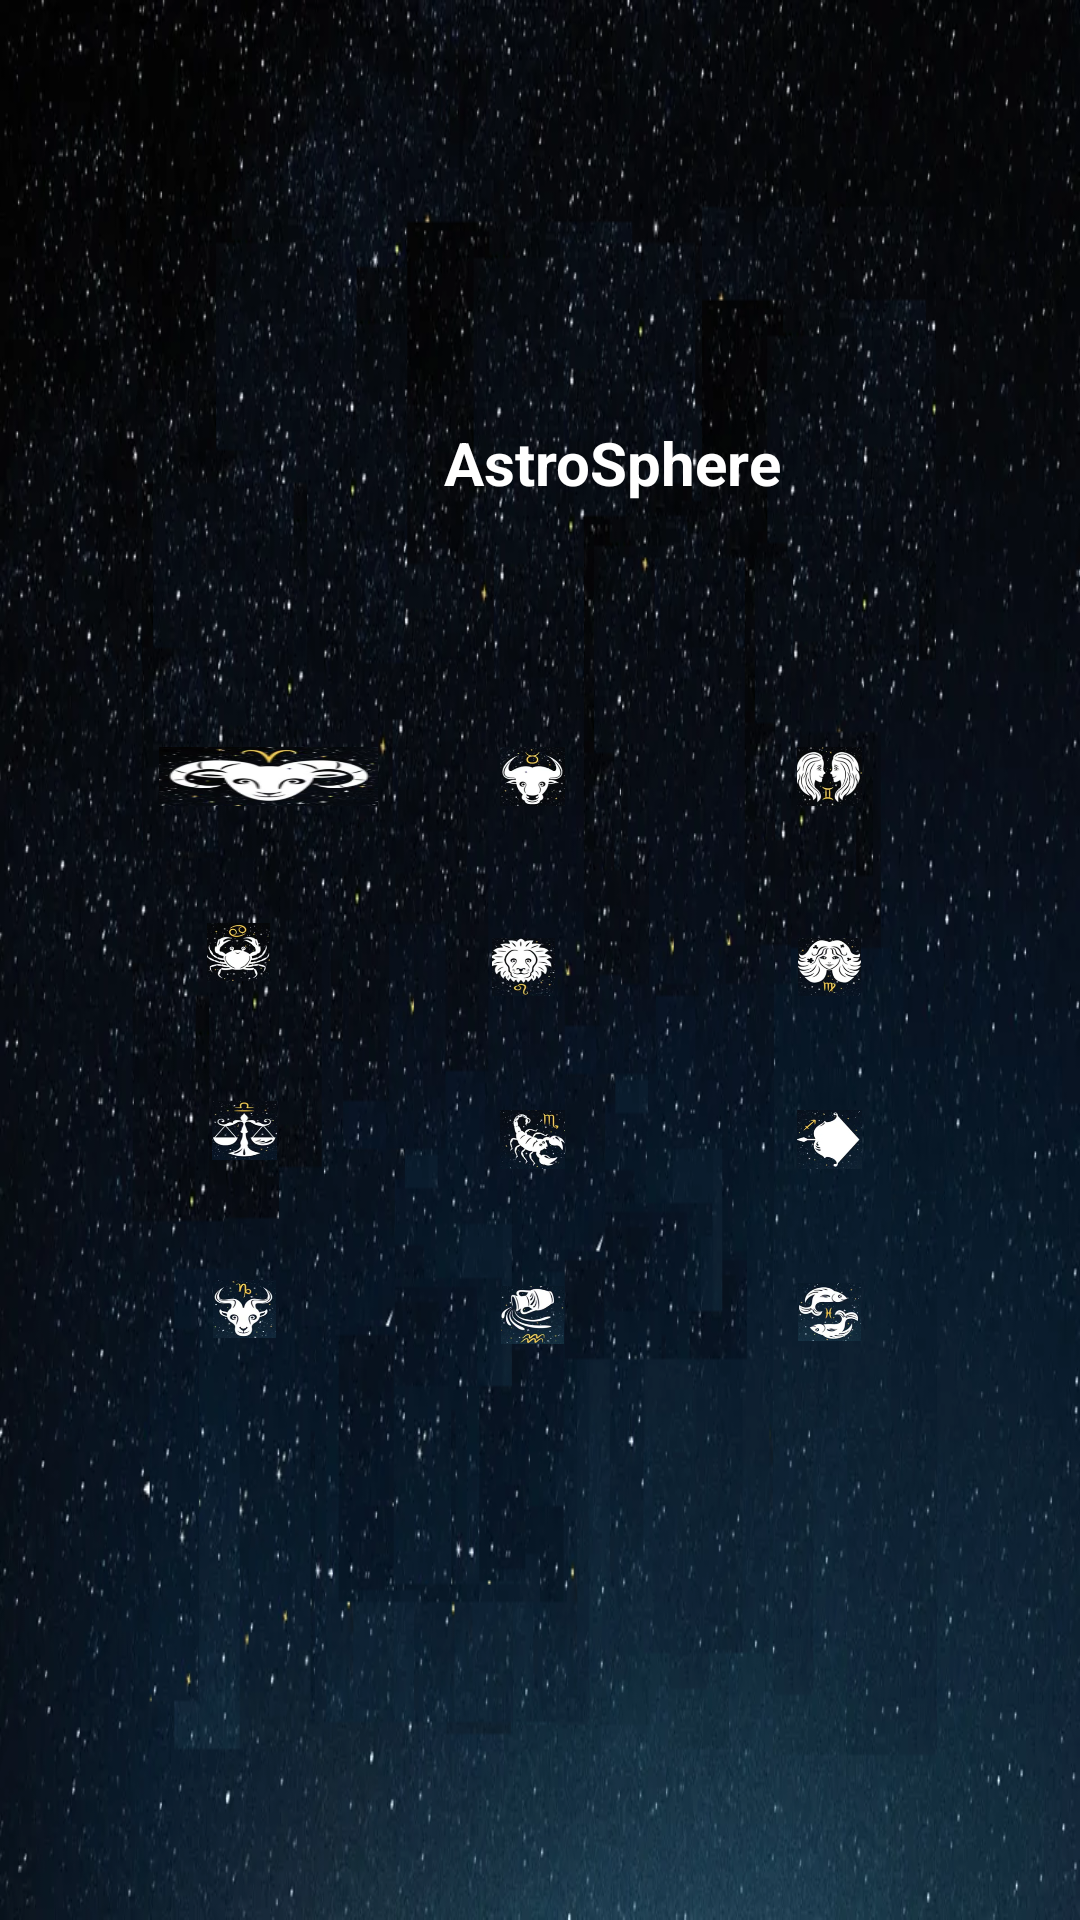

Screen size 1080px×1920px. Icon name, then its center in pixels as (x,y):
aries: (268,776)
